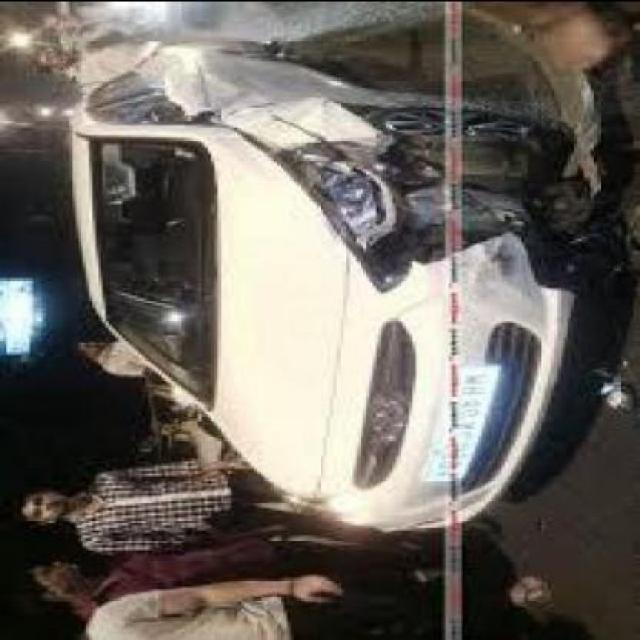damage: (231, 88, 601, 302)
